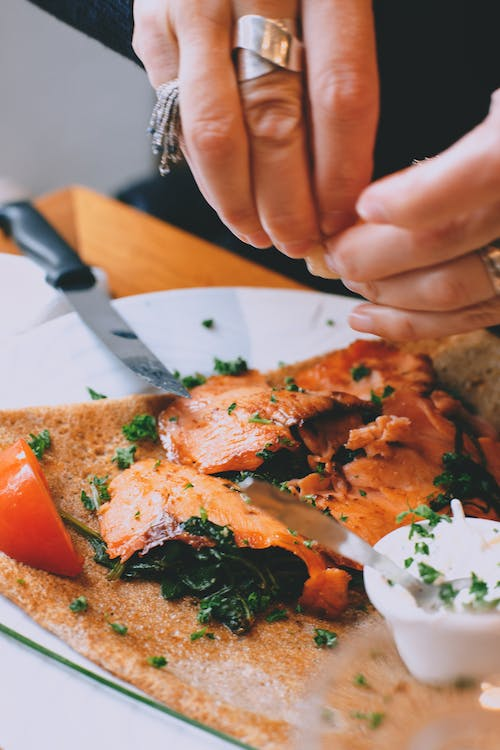knife: (0, 198, 193, 401)
